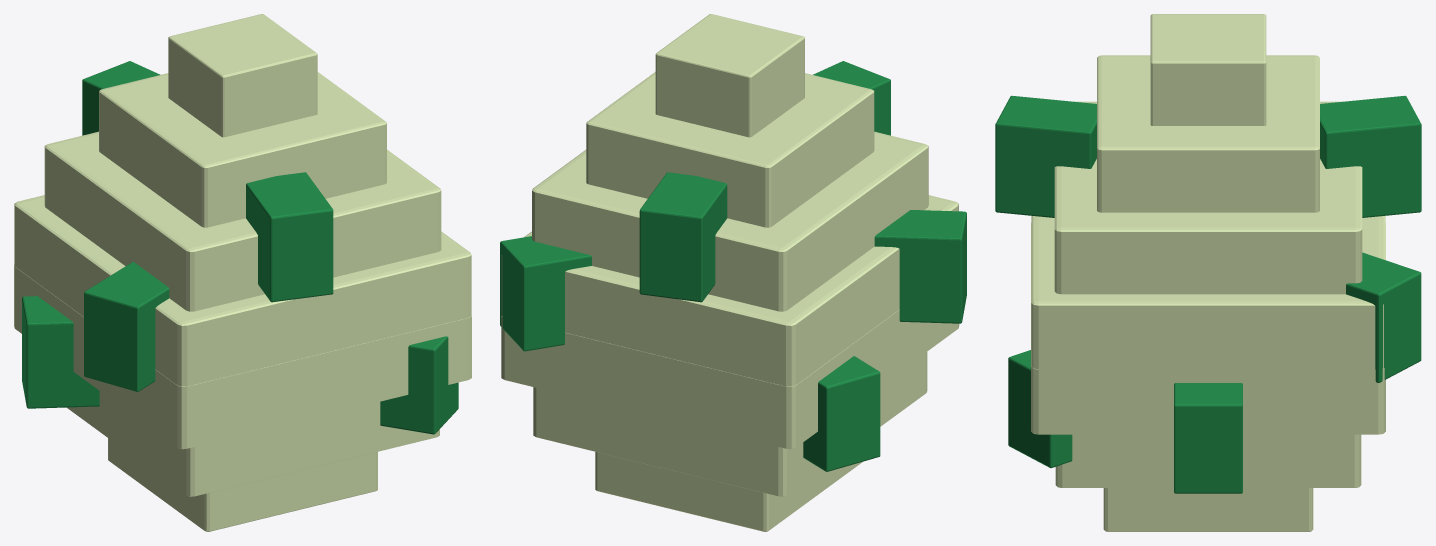
Rendered from egg-jungle.glb.
3 renders of one model, left to right at view 1: azimuth 30°, elevation 25°; view 2: azimuth 150°, elevation 25°; view 3: azimuth 270°, elevation 25°, orthographic. The views are drawn at different scales.
Parts seen in each view (by area): view 1: body; view 2: body; view 3: body.
Part boxes in pixels (x1=…): body: x1=14, y1=14, x2=471, y2=531; body: x1=500, y1=14, x2=966, y2=531; body: x1=995, y1=14, x2=1421, y2=531.
Size of the model in its own units: 0.9351 by 1 by 0.8571.
